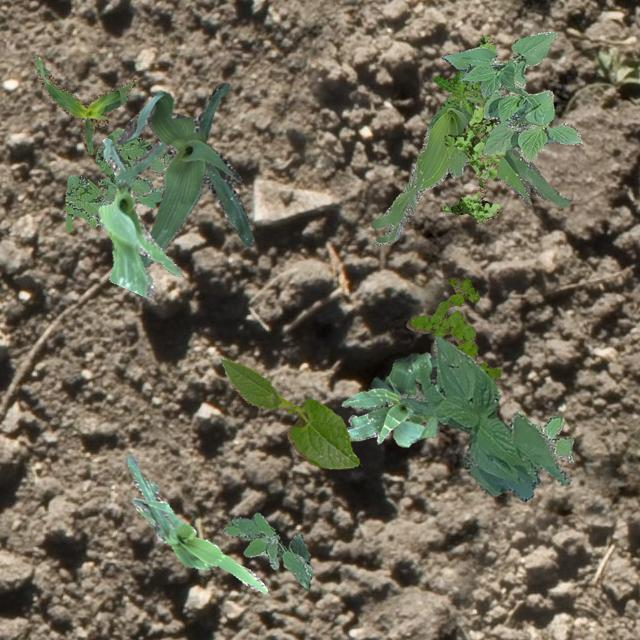crop: (398, 334, 570, 500), (114, 81, 252, 266), (125, 453, 266, 592), (441, 31, 582, 160), (220, 357, 358, 467), (96, 136, 182, 298), (32, 54, 138, 154), (362, 350, 438, 446), (340, 388, 412, 442), (288, 532, 312, 588)
weed: (370, 104, 572, 244), (442, 35, 504, 222), (64, 127, 170, 230), (404, 276, 500, 380), (222, 512, 310, 578), (432, 70, 482, 114), (534, 414, 574, 462), (135, 175, 161, 208)
